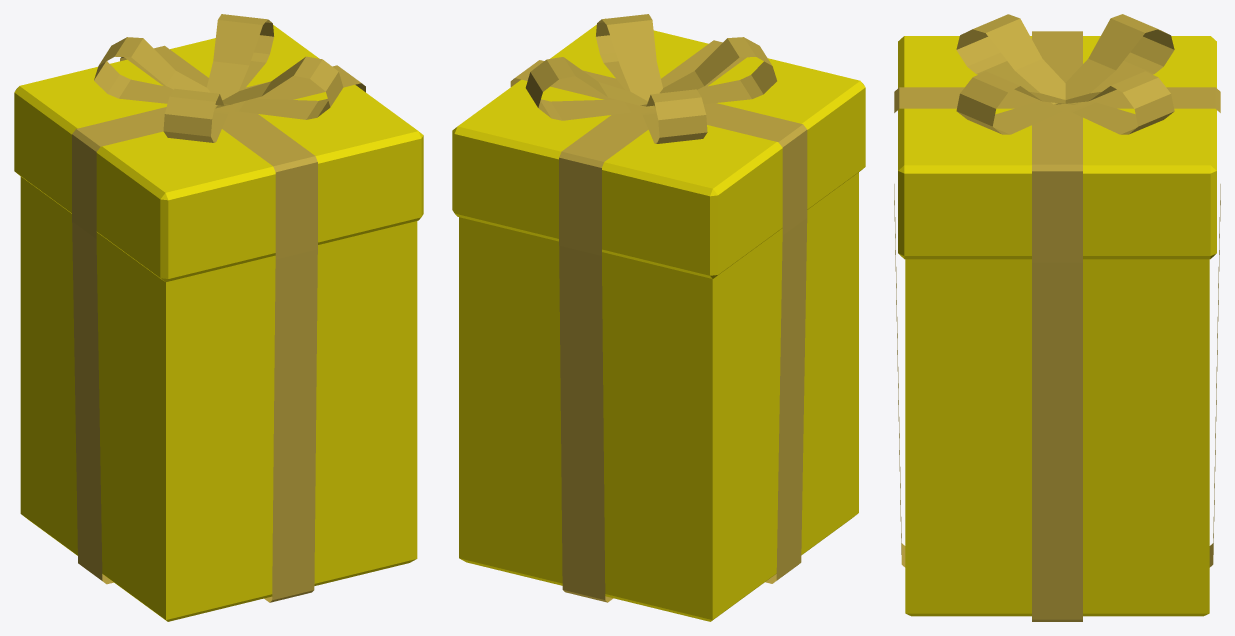
Rendered from present2.glb.
3 views of the same model, side by side, from view 1: azimuth 30°, elevation 25°; view 2: azimuth 150°, elevation 25°; view 3: azimuth 270°, elevation 25° (orthographic). The views are drawn at different scales.
Parts seen in each view (by area): view 1: Cube.003; view 2: Cube.003; view 3: Cube.003.
Part boxes in pixels (x1=…): Cube.003: x1=14, y1=14, x2=423, y2=621; Cube.003: x1=452, y1=14, x2=865, y2=621; Cube.003: x1=894, y1=14, x2=1220, y2=621.
Bounding box in the file's own units: 0.3686 × 0.6337 × 0.3686.
